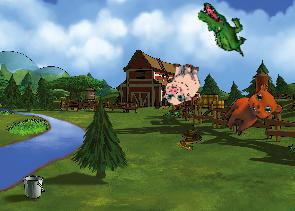bear: (218, 77, 287, 147)
crocodile: (188, 0, 257, 58)
pig: (161, 61, 203, 106)
